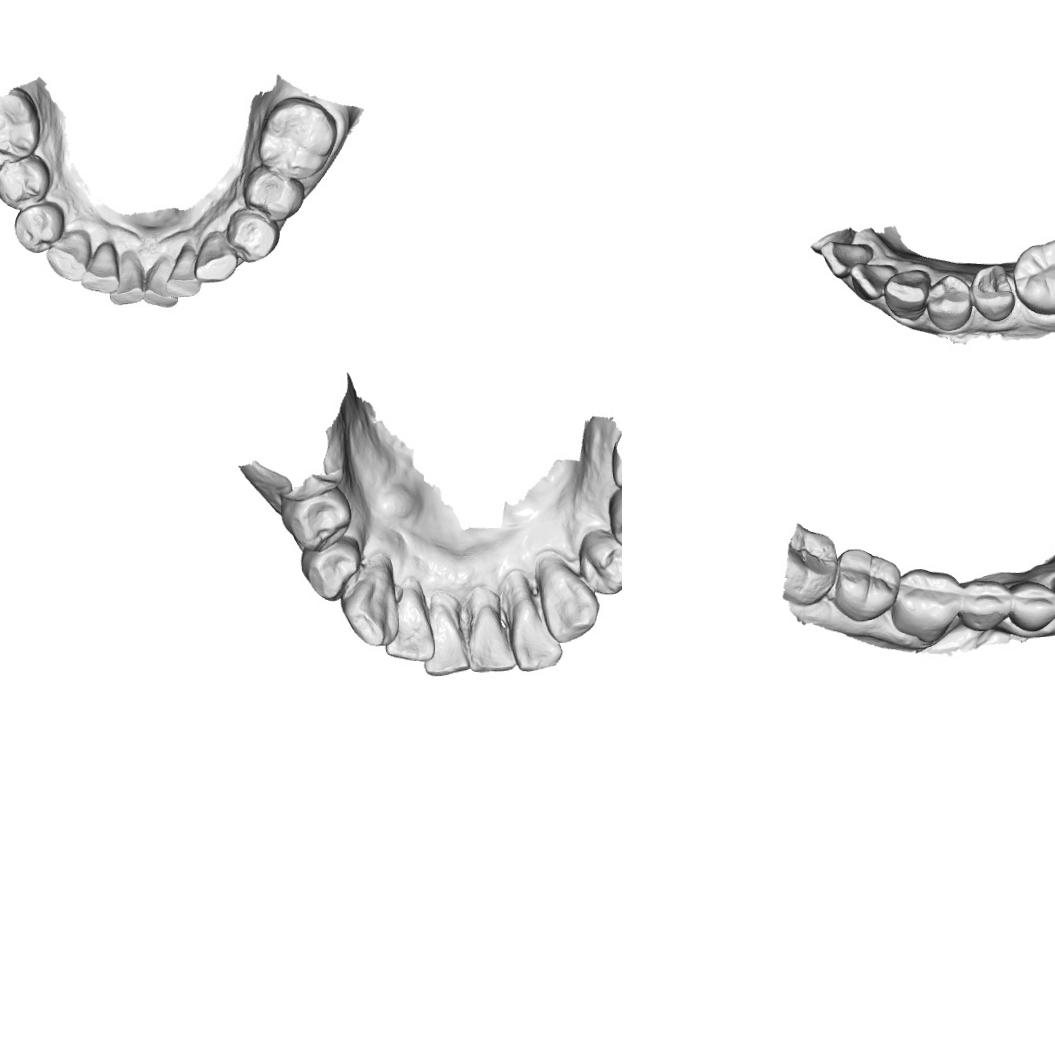canine: (338, 557, 400, 650), (538, 562, 602, 643), (43, 227, 94, 285), (882, 268, 931, 322), (192, 228, 239, 284)
incisor: (509, 576, 564, 671), (464, 594, 518, 675), (382, 586, 436, 666), (420, 598, 473, 677), (106, 247, 148, 306), (818, 238, 876, 280), (78, 240, 120, 296), (142, 252, 181, 310), (164, 240, 202, 299), (848, 260, 900, 301)
inlay: (975, 263, 1014, 308)
molar: (255, 94, 340, 181), (888, 565, 964, 646), (828, 544, 903, 626), (1010, 237, 1055, 317), (0, 85, 42, 169)
premolar: (279, 484, 354, 552), (299, 535, 362, 603), (241, 163, 307, 224), (224, 206, 282, 264), (575, 527, 622, 595), (0, 151, 52, 211), (924, 272, 974, 334), (958, 577, 1012, 634), (12, 200, 66, 256), (1007, 577, 1055, 633), (605, 483, 622, 553)
